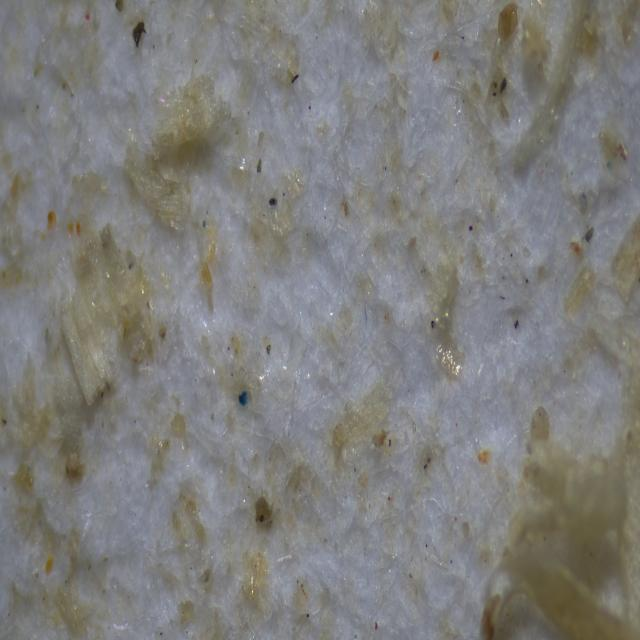microplastic: (237, 389, 249, 408)
